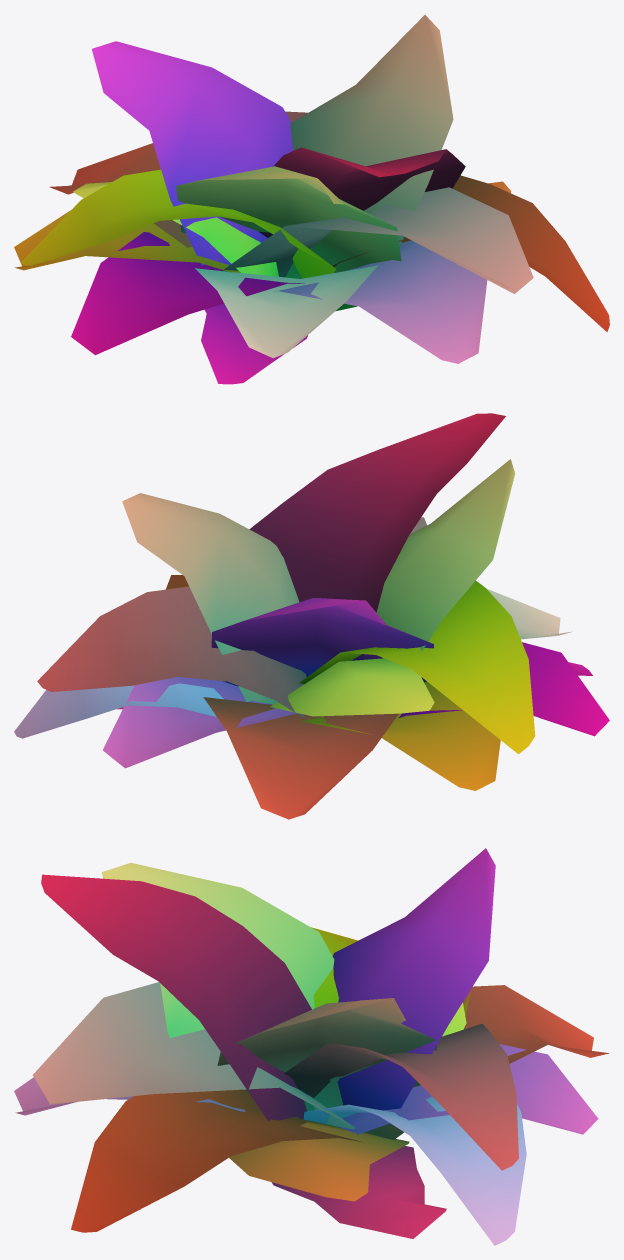
File: Common_Fern_rhDso_Mid_rhDso_VarA_LOD0.fbx
3 views of the same model, one above another, from view 1: azimuth 30°, elevation 25°; view 2: azimuth 150°, elevation 25°; view 3: azimuth 270°, elevation 25° (orthographic). The views are drawn at different scales.
Parts seen in each view (by area): view 1: _fc87_VarA_LOD1; view 2: _fc87_VarA_LOD1; view 3: _fc87_VarA_LOD1.
Boxes of the visible parts, left/top/right/bottom form: _fc87_VarA_LOD1: left=14, top=15, right=609, bottom=384; _fc87_VarA_LOD1: left=14, top=413, right=609, bottom=819; _fc87_VarA_LOD1: left=14, top=848, right=608, bottom=1245.
Size of the model in its own units: 135 by 66.74 by 142.
